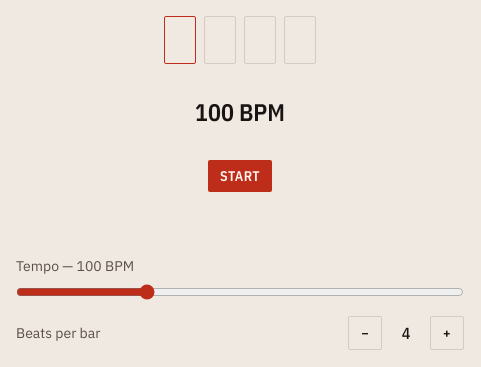
it: MetronomeView › keeps the run in the store, so leaving the view does not stop it
Click the button "Start". click: (240, 176)
box: [208,160,272,192]
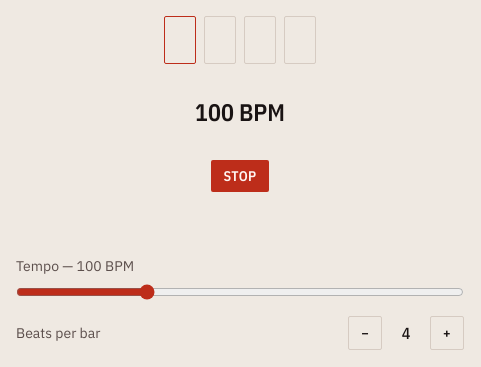
Click the button "Stop". click: (240, 176)
box: [212,160,268,192]
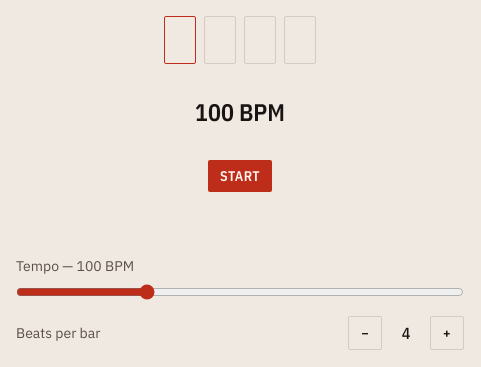
Note: Stopping is a store action too — restarting works from the same mount.
Click the button "Start". click: (240, 176)
box: [208,160,272,192]
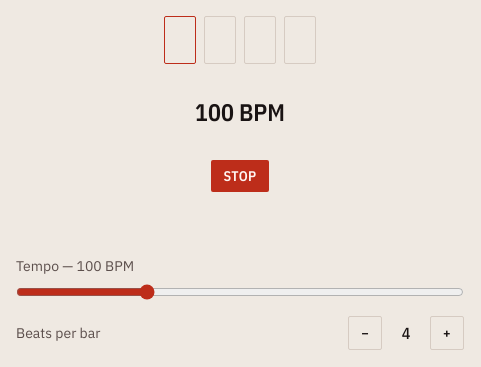
Check: the button "Stop" is shown, box [212,160,268,192]
